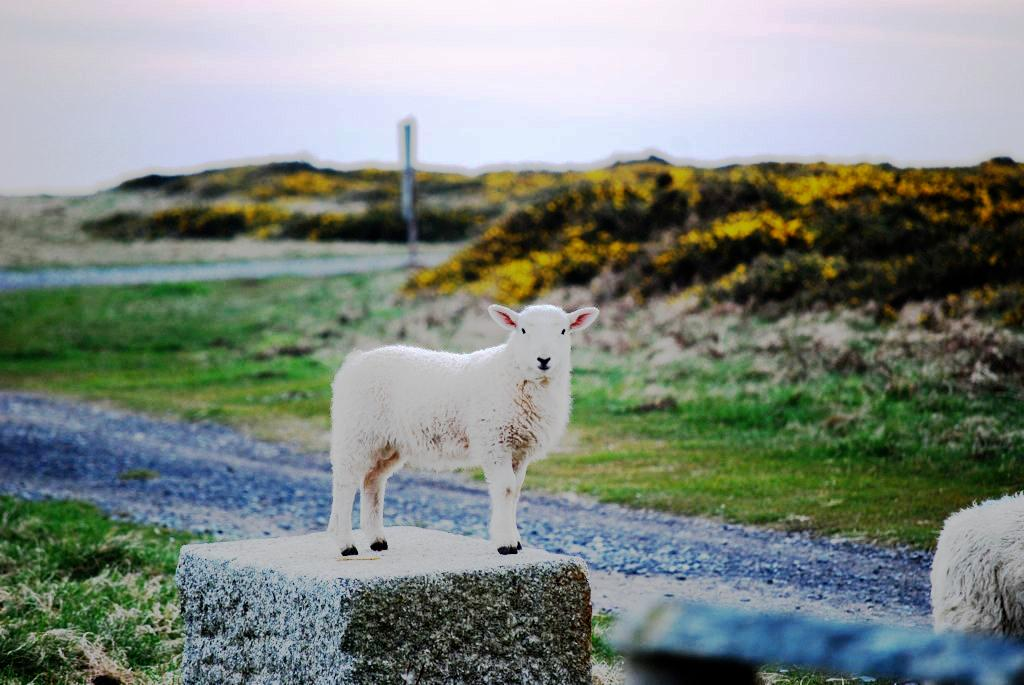Sheep: (325, 306, 596, 558), (933, 491, 1023, 634)
